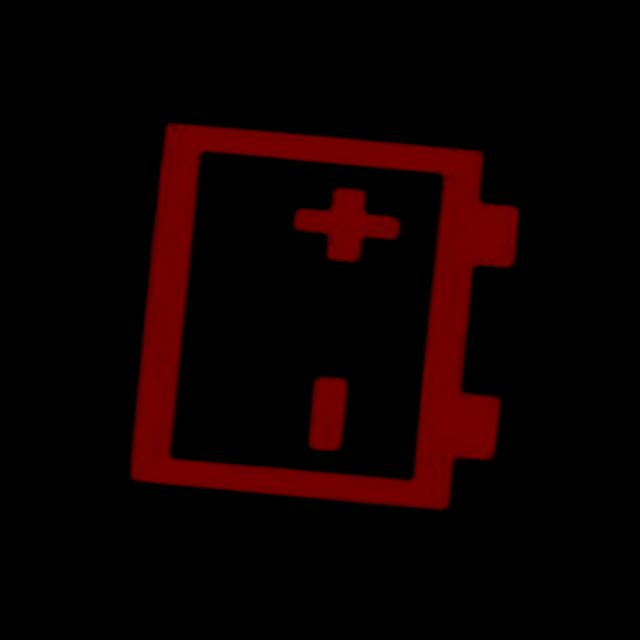kontrolka: (104, 74, 545, 540)
